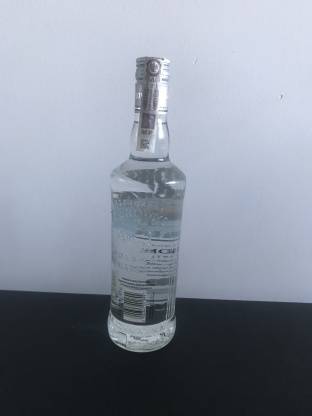nakretka: (132, 51, 172, 117)
